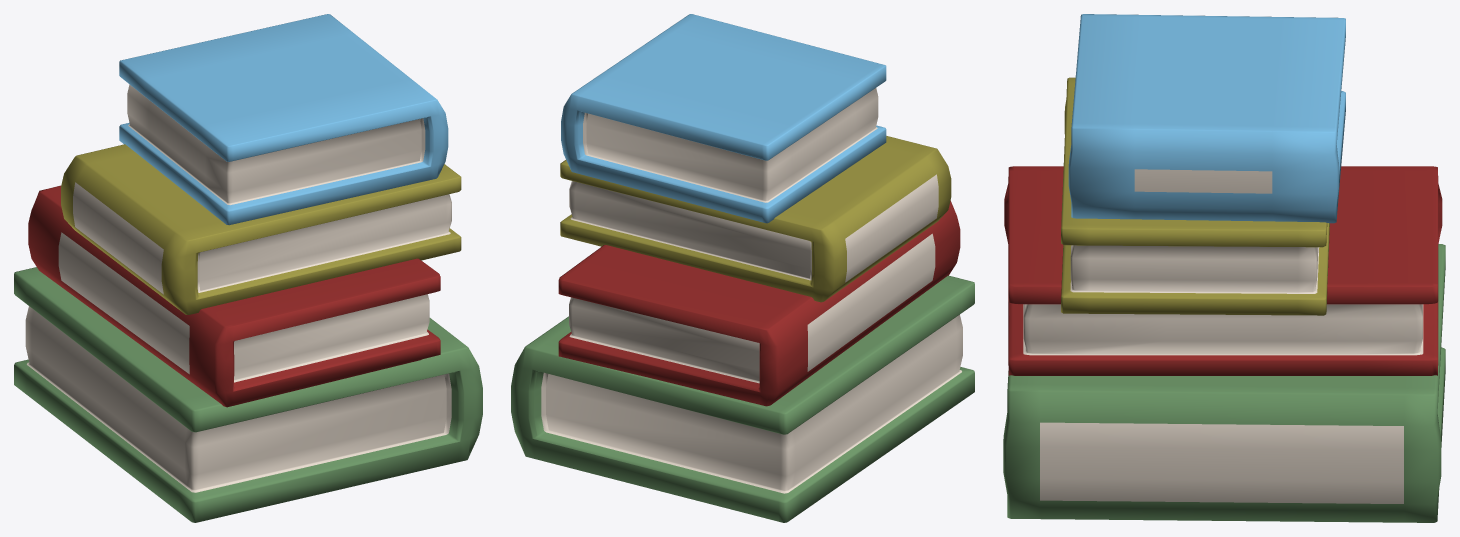
The model's file is Books_Stack.fbx.
The picture shows the model from 3 angles, left to right: view 1: azimuth 30°, elevation 25°; view 2: azimuth 150°, elevation 25°; view 3: azimuth 270°, elevation 25°; orthographic projection. The views are drawn at different scales.
Parts seen in each view (by area): view 1: Book_decor.001, Book_decor.003, Book_decor.002, Book_decor.004; view 2: Book_decor.001, Book_decor.003, Book_decor.002, Book_decor.004; view 3: Book_decor.001, Book_decor.003, Book_decor.002, Book_decor.004.
Part boxes in pixels (x1=…): Book_decor.001: x1=14, y1=267, x2=482, y2=522; Book_decor.003: x1=119, y1=14, x2=448, y2=225; Book_decor.002: x1=28, y1=185, x2=440, y2=407; Book_decor.004: x1=61, y1=144, x2=461, y2=314; Book_decor.001: x1=511, y1=275, x2=974, y2=522; Book_decor.003: x1=561, y1=14, x2=886, y2=223; Book_decor.002: x1=558, y1=200, x2=960, y2=406; Book_decor.004: x1=560, y1=136, x2=951, y2=302; Book_decor.001: x1=1003, y1=244, x2=1445, y2=522; Book_decor.003: x1=1068, y1=14, x2=1345, y2=223; Book_decor.002: x1=1004, y1=166, x2=1442, y2=375; Book_decor.004: x1=1061, y1=77, x2=1329, y2=315.
Bounding box in the file's own units: 31.48 × 35.02 × 36.03.
